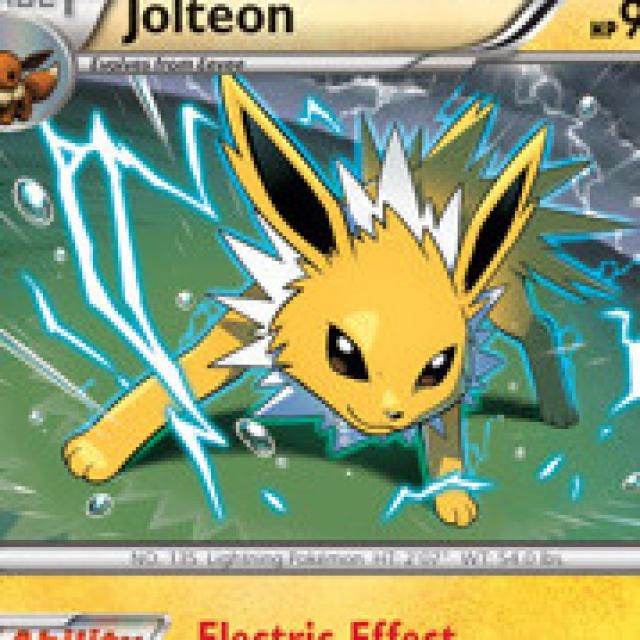Jolteon: (220, 111, 587, 508)
